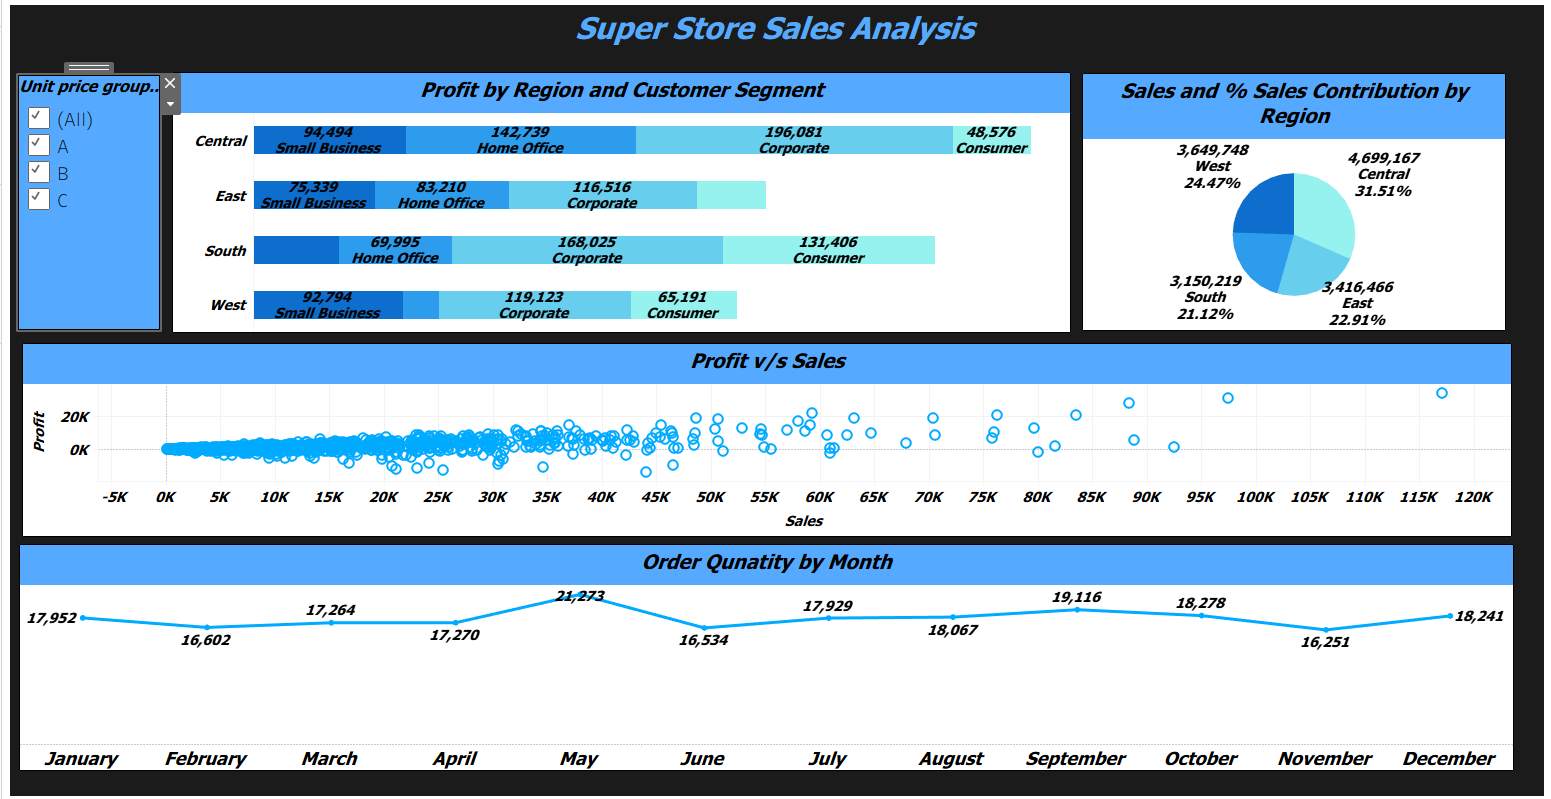

Layout of this report page (visuals, bound fields, positions):
{"tool":"tableau","page":{"name":"Dashboard 1","canvas":[1000,1000],"units":"permille","ordinal":0},"visuals":[{"type":"title","box":[5.2,9.9,989.7,55.8]},{"type":"worksheet","title":"Bar chart","mark":"Automatic","rows":["Region"],"cols":["Profit"],"box":[109.7,92.9,580,323.4]},{"type":"worksheet","title":"Pie chart","mark":"Pie","box":[696.8,94.2,273.6,319.7]},{"type":"filter","title":"Line chart","param":"[federated.1to7b9202wgnna1b4z6nq1en18zp].[none:Calculation_1086630124036096:nk]","box":[10.3,96.7,91.6,316]},{"type":"worksheet","title":"Scatter plot","mark":"Automatic","rows":["Profit"],"cols":["Sales"],"box":[12.9,428.8,961.3,240.4]},{"type":"worksheet","title":"Line chart","mark":"Automatic","rows":["Order Quantity"],"cols":["Order Date"],"box":[11,677.8,964.5,281.3]}]}

Visuals, with their boxes on the dashboard's canvas, which has no fixed pixel size, in thousandths of its width and height (x1, y1, x2, y2). These are canvas units, not pixel positions in the 1551x799 screenshot, which may show the page scaled, cropped or inside an application window:
title: <box>5,10,995,66</box>
"Bar chart" worksheet: <box>110,93,690,416</box>
"Pie chart" worksheet (Pie marks): <box>697,94,970,414</box>
"Line chart" filter: <box>10,97,102,413</box>
"Scatter plot" worksheet: <box>13,429,974,669</box>
"Line chart" worksheet: <box>11,678,976,959</box>
